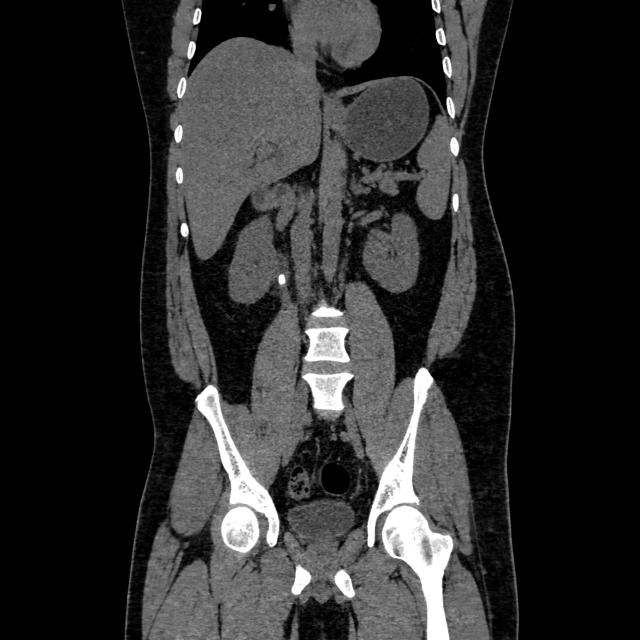kidneystone: (278, 273, 286, 286)
